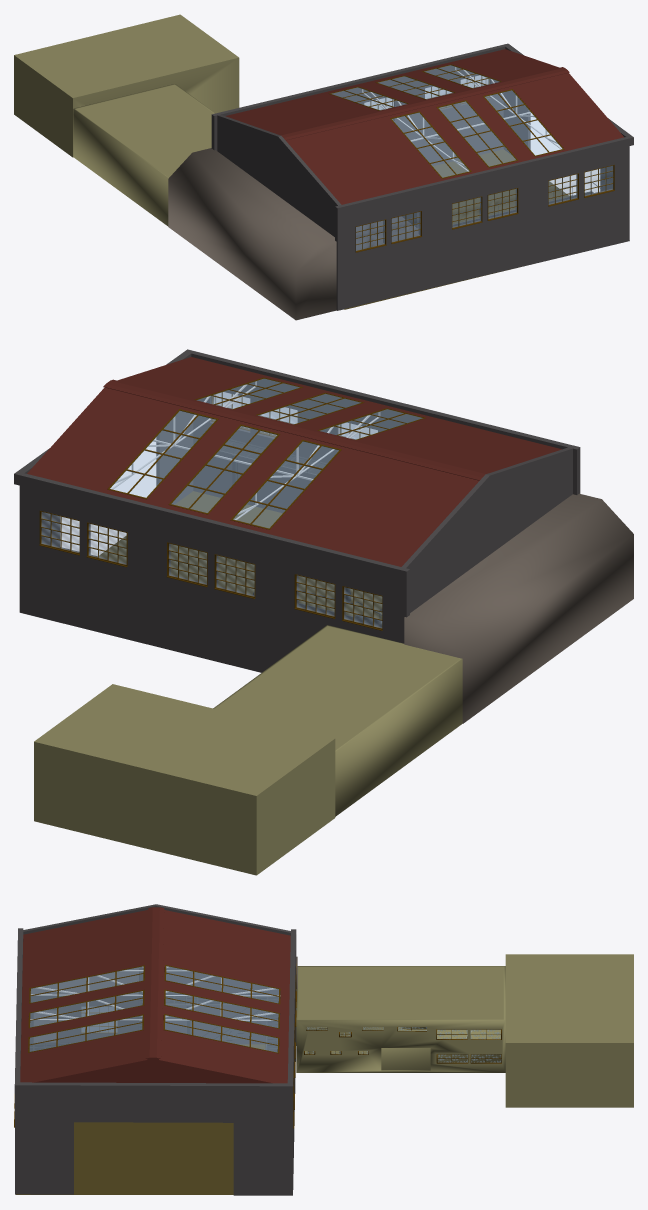
Rendered from building.fbx.
3 views of the same model, one above another, from view 1: azimuth 30°, elevation 25°; view 2: azimuth 150°, elevation 25°; view 3: azimuth 270°, elevation 25° (orthographic). The views are drawn at different scales.
Visible parts, largest first — view 1: Storage, Roof_storage, Hallway_storage_main, PuzzleBuilding, Windows_storage, MainBuilding, Floor_storage, PuzzleRoom, Support_storage; view 2: Storage, Roof_storage, PuzzleBuilding, Hallway_storage_main, Windows_storage, MainBuilding, Floor_storage, Support_storage, Metal_plate_storage; view 3: Roof_storage, Storage, MainBuilding, PuzzleBuilding, Windows_storage, Floor_storage, PuzzleRoom, Windows_main, Metal_plate_storage, Support_storage.
Part boxes in pixels (box(x1,y1,x2,y2)): Storage: box(211, 43, 633, 310); Roof_storage: box(225, 49, 623, 204); Hallway_storage_main: box(168, 148, 336, 320); PuzzleBuilding: box(14, 14, 239, 157); Windows_storage: box(329, 64, 614, 252); MainBuilding: box(73, 84, 215, 226); Floor_storage: box(344, 149, 568, 309); PuzzleRoom: box(356, 212, 419, 249); Support_storage: box(362, 67, 561, 171); Storage: box(14, 349, 580, 672); Roof_storage: box(27, 357, 561, 566); PuzzleBuilding: box(34, 684, 335, 875); Hallway_storage_main: box(404, 493, 633, 723); Windows_storage: box(39, 377, 425, 630); MainBuilding: box(213, 625, 462, 816); Floor_storage: box(99, 491, 382, 619); Support_storage: box(111, 381, 380, 519); Metal_plate_storage: box(220, 439, 382, 626); Roof_storage: box(20, 907, 290, 1083); Storage: box(14, 904, 296, 1195); MainBuilding: box(296, 966, 505, 1072); PuzzleBuilding: box(505, 954, 633, 1107); Windows_storage: box(14, 964, 296, 1128); Floor_storage: box(16, 1044, 265, 1194); PuzzleRoom: box(28, 967, 139, 1042); Windows_main: box(304, 1027, 501, 1063); Metal_plate_storage: box(29, 994, 280, 1052); Support_storage: box(30, 966, 280, 1020).
Size of the model in its own units: 71064 by 25615 by 103691.
